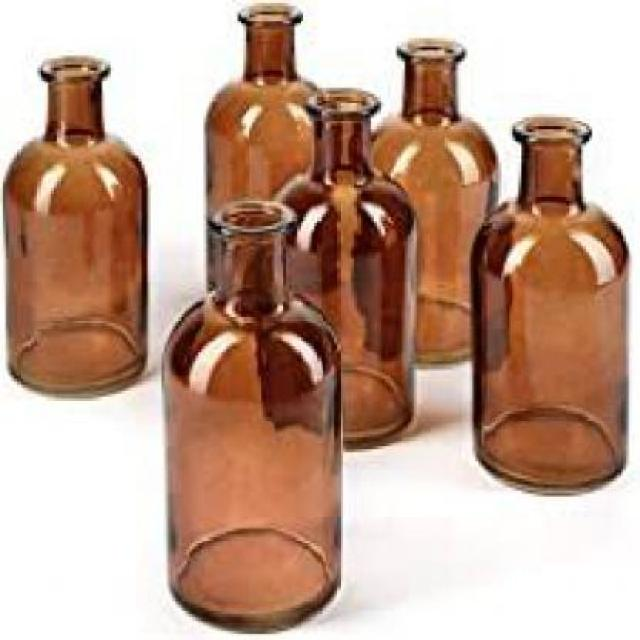kaca: (158, 197, 340, 631), (471, 114, 626, 491), (272, 85, 411, 443), (3, 55, 145, 394), (363, 36, 495, 367), (201, 3, 314, 300)
